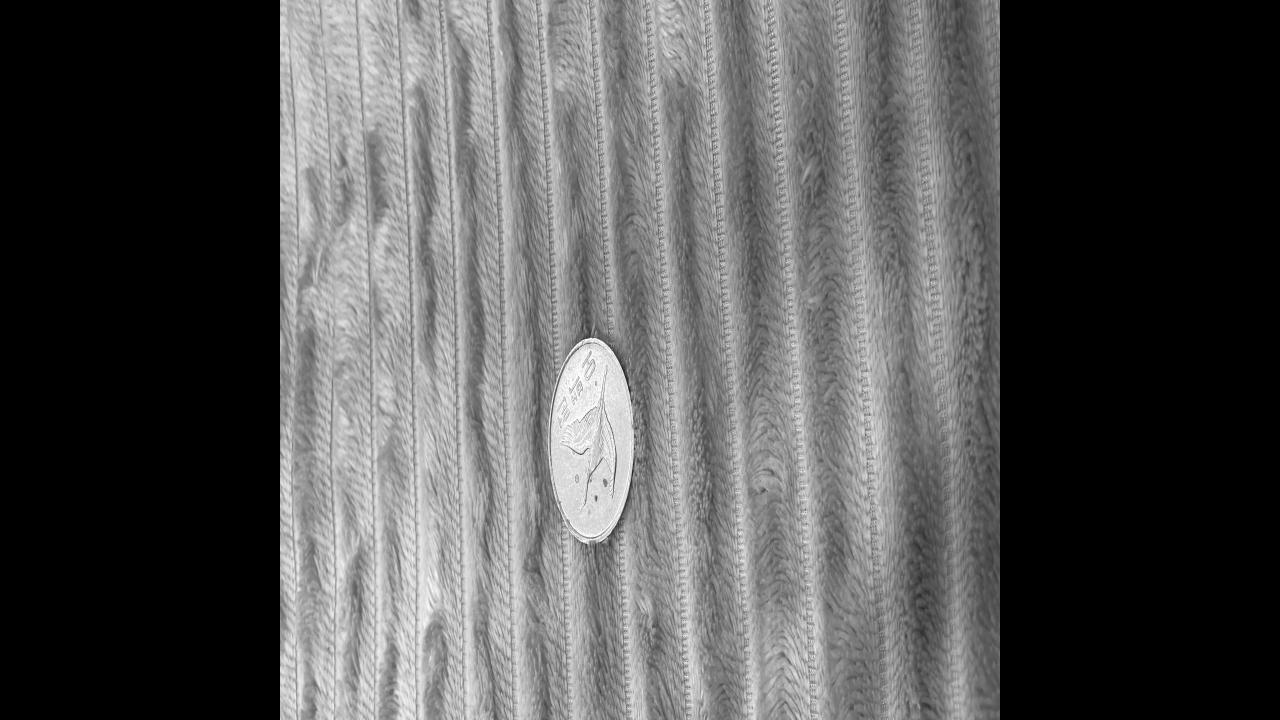coin: (548, 332, 635, 548)
